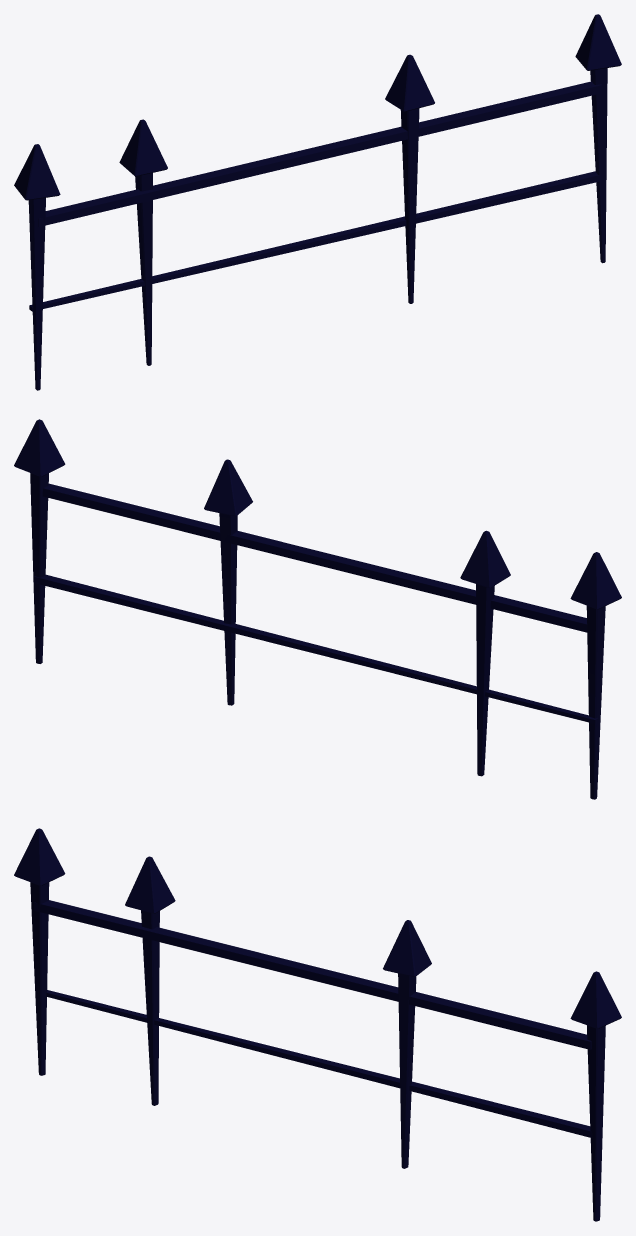
File: METALFENCE.fbx
3 renders of one model, top to bottom at view 1: azimuth 30°, elevation 25°; view 2: azimuth 150°, elevation 25°; view 3: azimuth 330°, elevation 25°, orthographic.
Visible parts, largest first — view 1: polySurface2_f_4_1; view 2: polySurface2_f_4_1; view 3: polySurface2_f_4_1.
Part boxes in pixels (box(x1,y1,x2,y2)): polySurface2_f_4_1: box(14, 14, 621, 390); polySurface2_f_4_1: box(14, 419, 621, 799); polySurface2_f_4_1: box(14, 828, 621, 1221).
Bounding box in the file's own units: 2612 × 1053 × 193.
